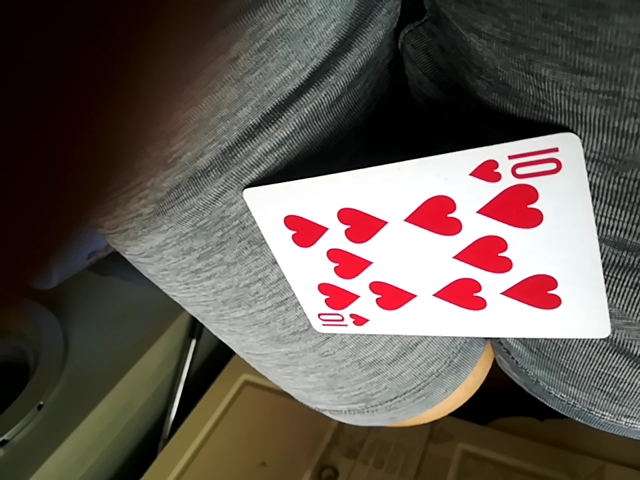hx 10: (239, 135, 609, 341)
